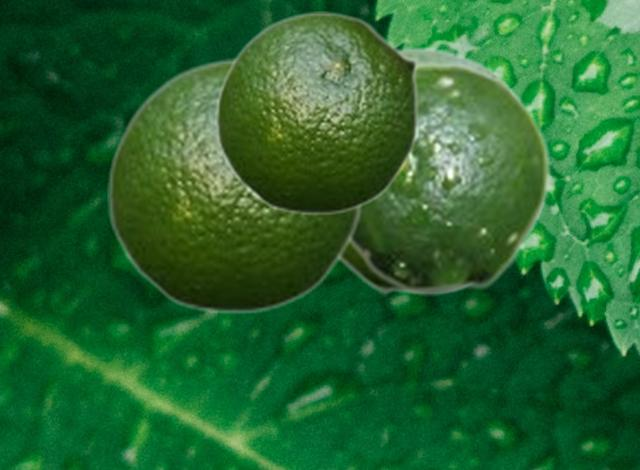calamansi: (107, 58, 362, 314), (340, 44, 546, 295), (350, 61, 551, 294), (215, 11, 419, 215)
